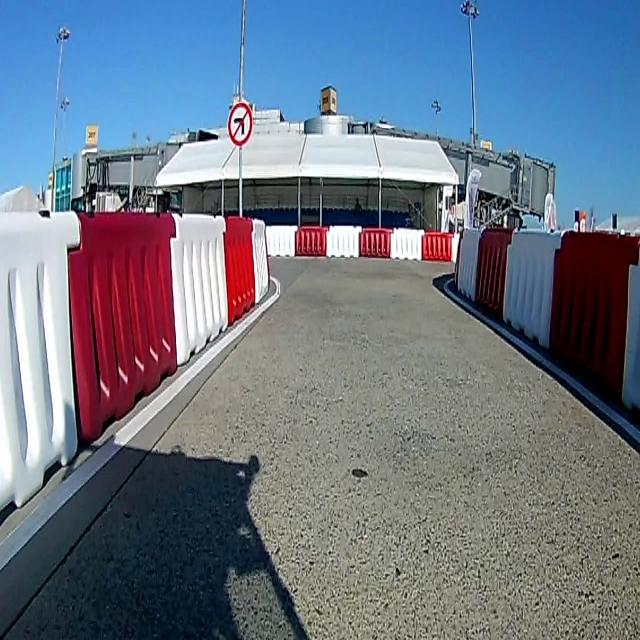soladonulmez: (228, 101, 250, 144)
